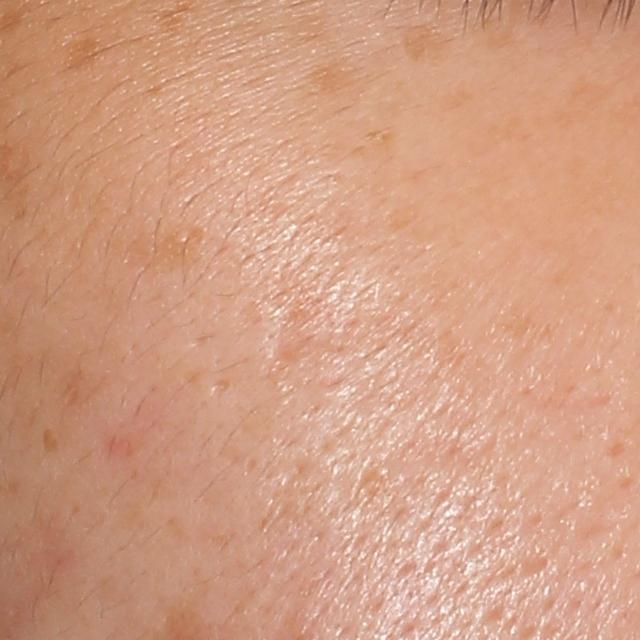atrophic_scar: (265, 333, 321, 375)
melasma: (405, 26, 466, 66), (312, 62, 374, 98), (61, 36, 102, 70)
